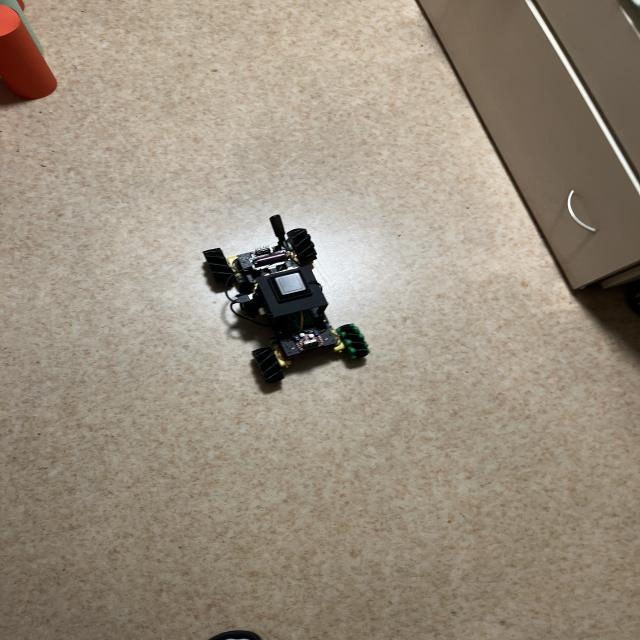robot: (203, 215, 370, 383)
